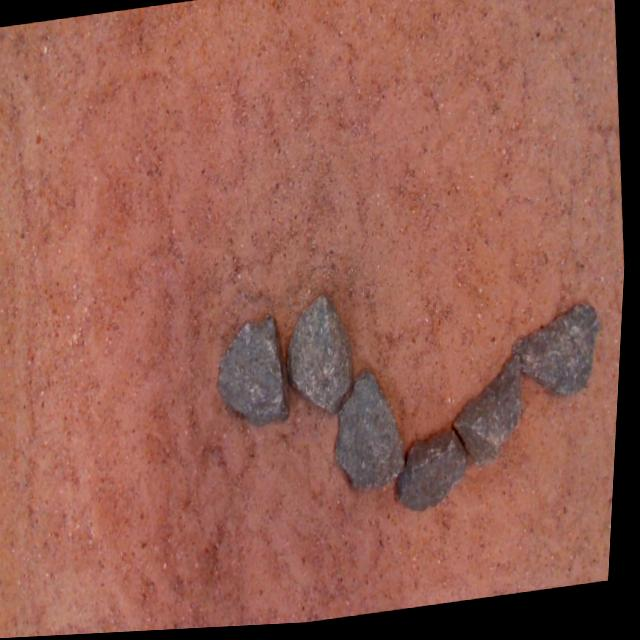rock: (341, 374, 409, 491), (221, 318, 293, 427), (290, 298, 357, 415), (516, 311, 603, 401), (458, 361, 526, 469), (402, 434, 472, 514)
